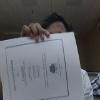notebook: (0, 31, 85, 99)
